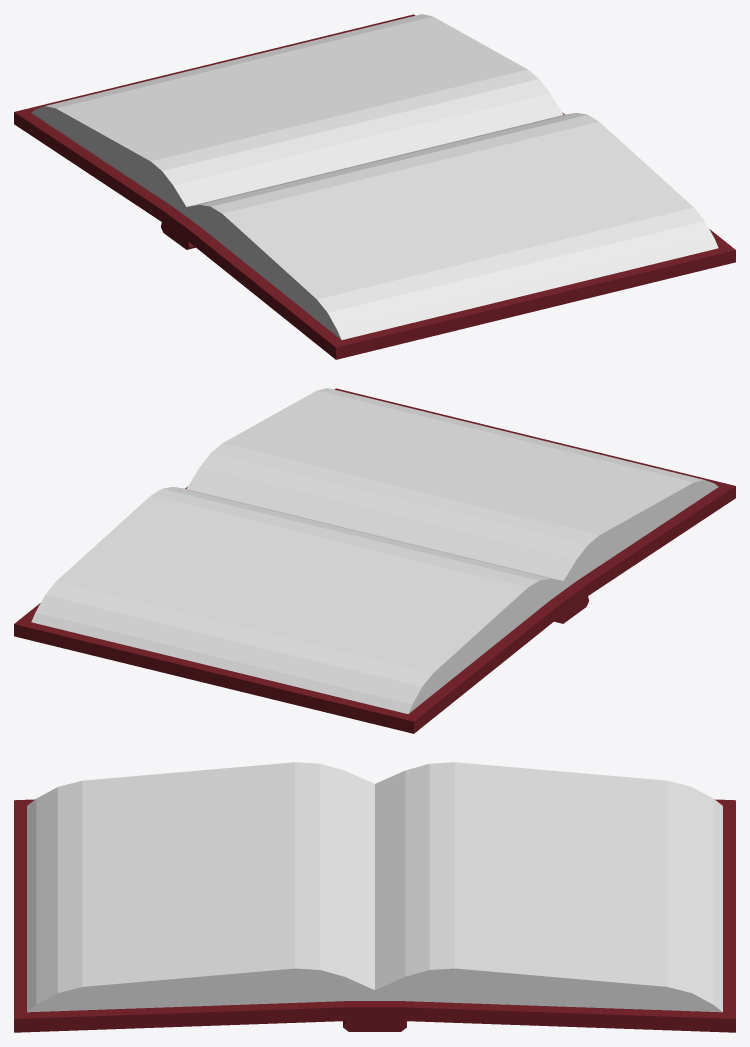
The model's file is book_faceup.fbx.
3 views of the same model, one above another, from view 1: azimuth 30°, elevation 25°; view 2: azimuth 150°, elevation 25°; view 3: azimuth 270°, elevation 25° (orthographic). The views are drawn at different scales.
Visible parts, largest first — view 1: book_faceup; view 2: book_faceup; view 3: book_faceup.
Boxes of the visible parts, box(x1,y1,x2,y2) form: book_faceup: box(14, 14, 735, 359); book_faceup: box(14, 388, 735, 733); book_faceup: box(14, 762, 735, 1032).
Size of the model in its own units: 29.33 by 3.62 by 40.91.
